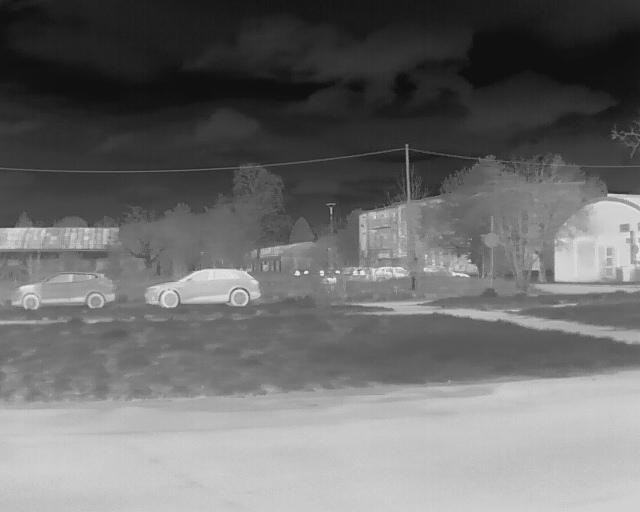drone: (283, 254, 385, 310)
